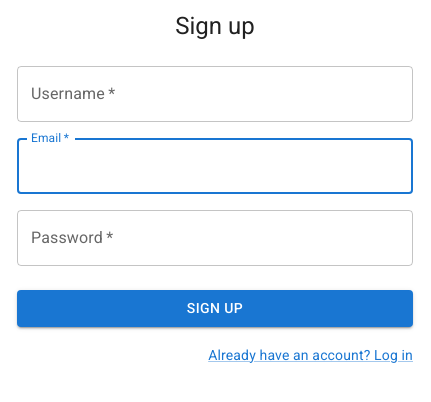
it: <SignUp /> › behavior › should not allow you to submit the form if the email is invalid
Type "test" into the field labelled "Email *".
click(215, 166); type("test")  # box left=17, top=138, right=413, bottom=194
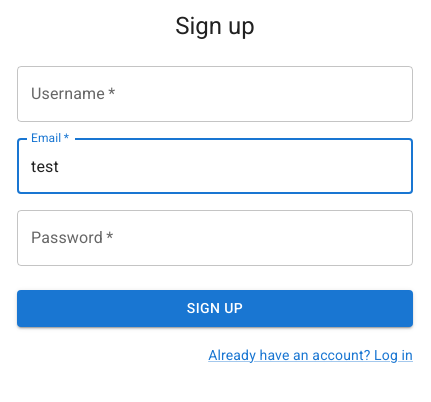
Type "test" into the password field with test id "password".
click(215, 238); type("test")  # box left=17, top=210, right=413, bottom=266
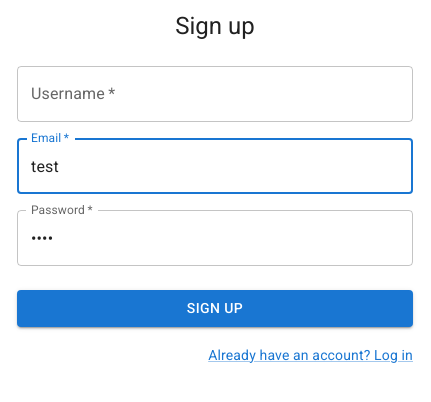
Click the button "Sign Up".
click(215, 308)  # box left=17, top=290, right=413, bottom=326
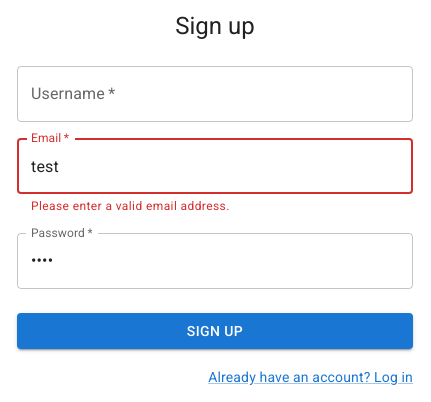
Check: the text "Please enter a valid email address." is shown, box left=31, top=199, right=230, bottom=213
